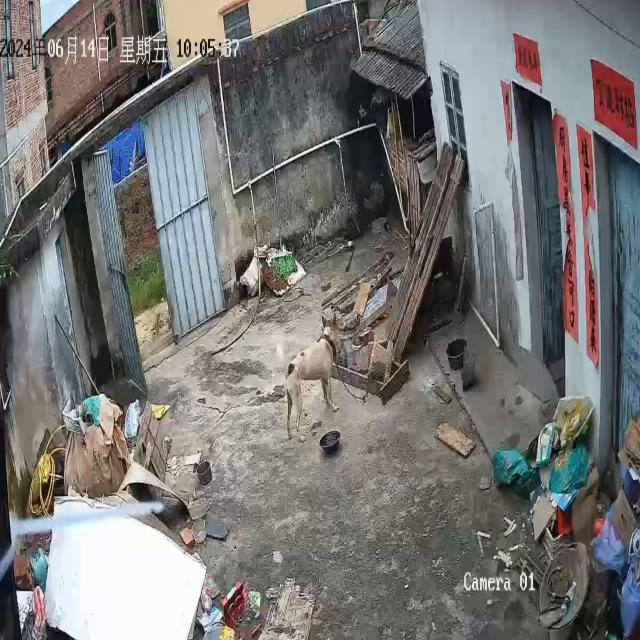dog: (285, 316, 342, 441)
